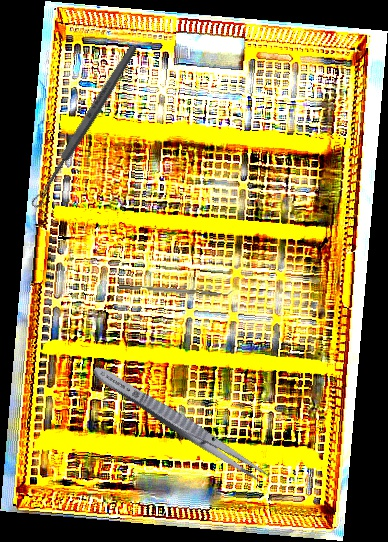Chopper: (118, 278, 234, 299)
Dressing Forceps: (88, 361, 273, 487)
Surgical Spoon: (28, 43, 140, 210)
